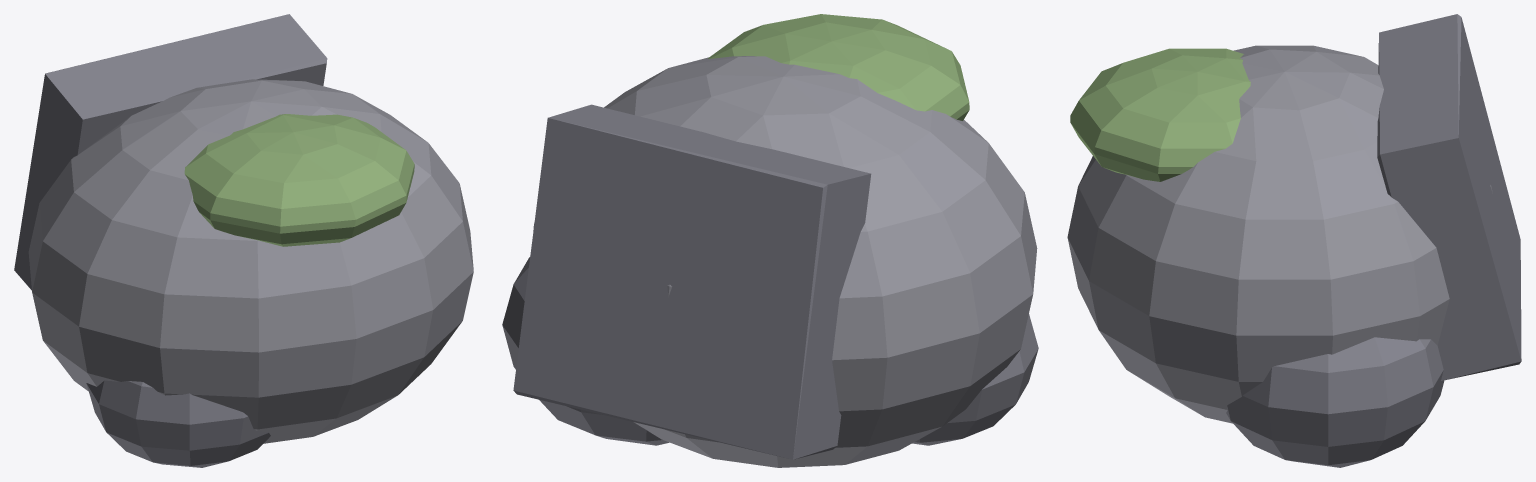
Rendered from cave_boulder.glb.
3 views of the same model, side by side, from view 1: azimuth 30°, elevation 25°; view 2: azimuth 150°, elevation 25°; view 3: azimuth 270°, elevation 25° (orthographic). The views are drawn at different scales.
Visible parts, largest first — view 1: cave_boulder; view 2: cave_boulder; view 3: cave_boulder.
Boxes of the visible parts, box(x1,y1,x2,y2) form: cave_boulder: box(14, 14, 473, 467); cave_boulder: box(502, 14, 1038, 467); cave_boulder: box(1067, 14, 1521, 467).
Bounding box in the file's own units: 1.11 × 0.84 × 1.04.
